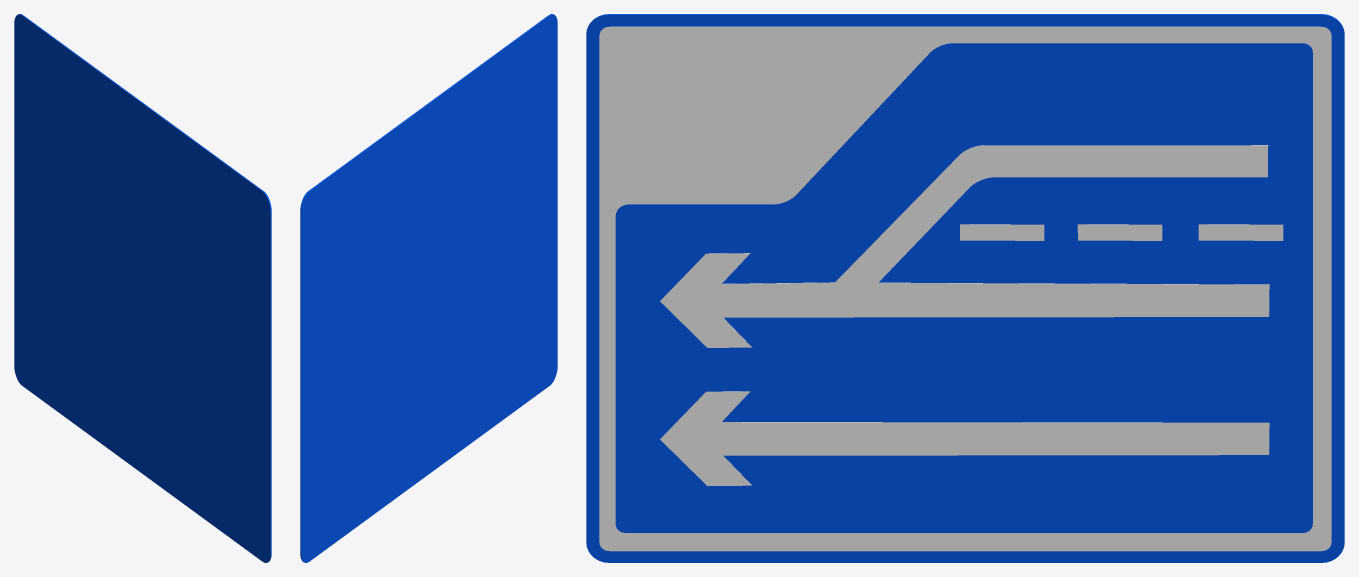
File: 车道数减少.gltf
3 views of the same model, side by side, from view 1: azimuth 30°, elevation 25°; view 2: azimuth 150°, elevation 25°; view 3: azimuth 270°, elevation 25° (orthographic). The views are drawn at different scales.
Visible parts, largest first — view 1: 平面; view 2: 平面; view 3: 平面.001, 平面.003, 平面.002, 平面, BezierCurve.001.
Boxes of the visible parts, x1,y1,x2,y2 form: 平面: (14, 14, 271, 562); 平面: (300, 14, 557, 562); 平面.001: (615, 43, 1312, 532); 平面.003: (599, 26, 1331, 551); 平面.002: (660, 145, 1283, 347); 平面: (586, 14, 1344, 562); BezierCurve.001: (660, 391, 1269, 486).
Bounding box in the file's own units: 0.0386 × 1.52 × 1.91.
